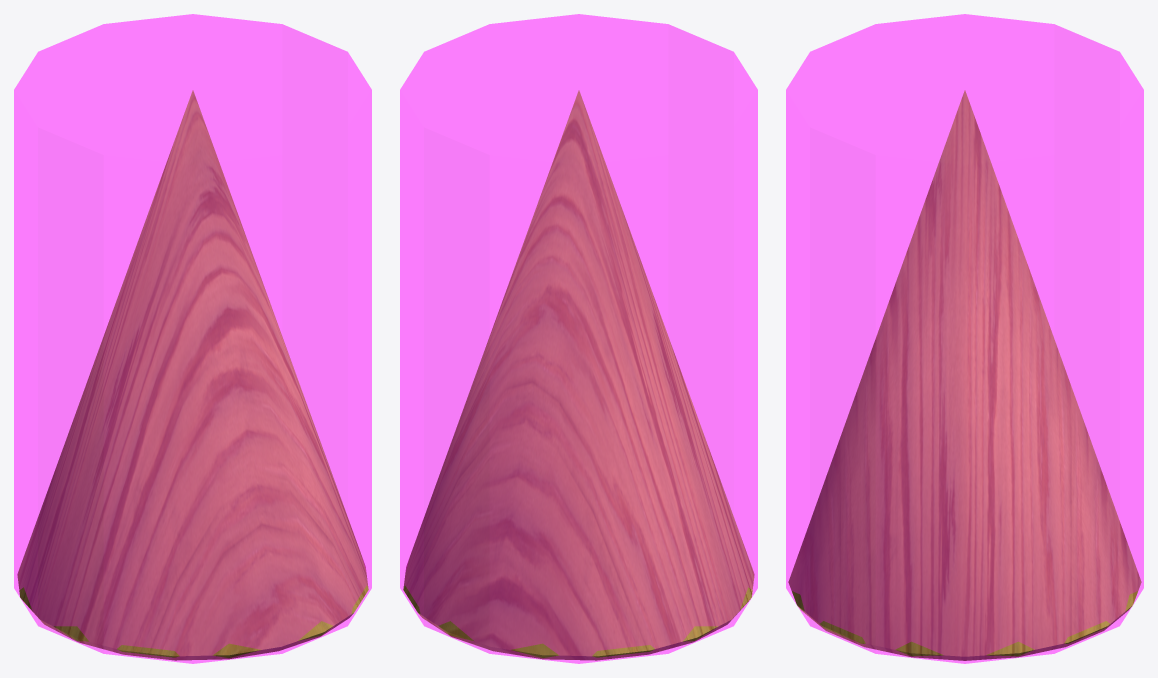
File: tumiki_B.fbx
3 views of the same model, side by side, from view 1: azimuth 30°, elevation 25°; view 2: azimuth 150°, elevation 25°; view 3: azimuth 270°, elevation 25° (orthographic).
Parts seen in each view (by area): view 1: boundingbox, tumiki_B; view 2: boundingbox, tumiki_B; view 3: boundingbox, tumiki_B.
Part boxes in pixels (<box>): boundingbox: <box>14,14,371,663</box>; tumiki_B: <box>17,90,368,660</box>; boundingbox: <box>400,14,757,663</box>; tumiki_B: <box>403,90,754,660</box>; boundingbox: <box>786,14,1143,663</box>; tumiki_B: <box>788,90,1141,660</box>.
Bounding box in the file's own units: 2.6 × 4 × 2.6.
Materials: 2 (1 with a texture image).
